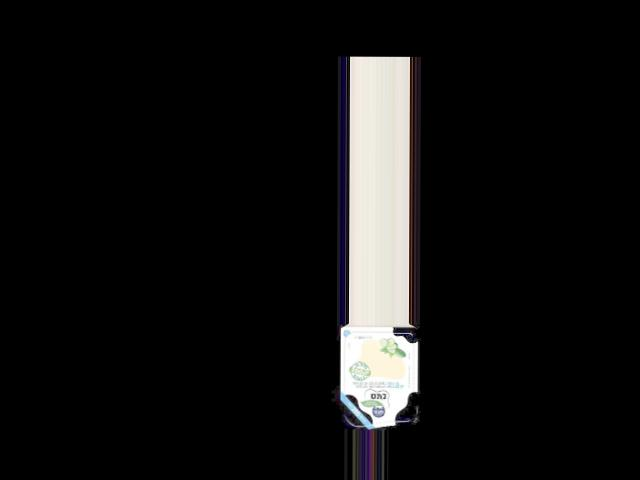cheese: (335, 323, 422, 427)
